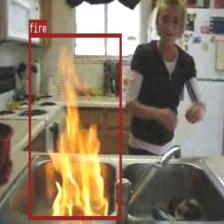fire: (28, 33, 121, 219)
